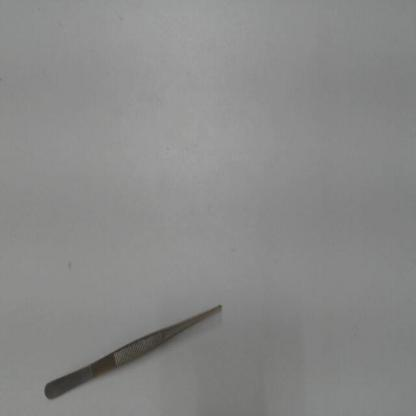Gillies Toothed Dissector: (37, 295, 233, 402)
